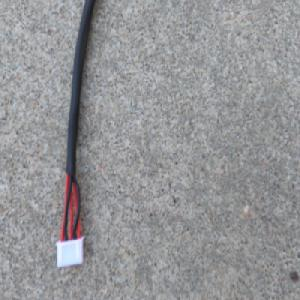Wire: (54, 0, 96, 271)
